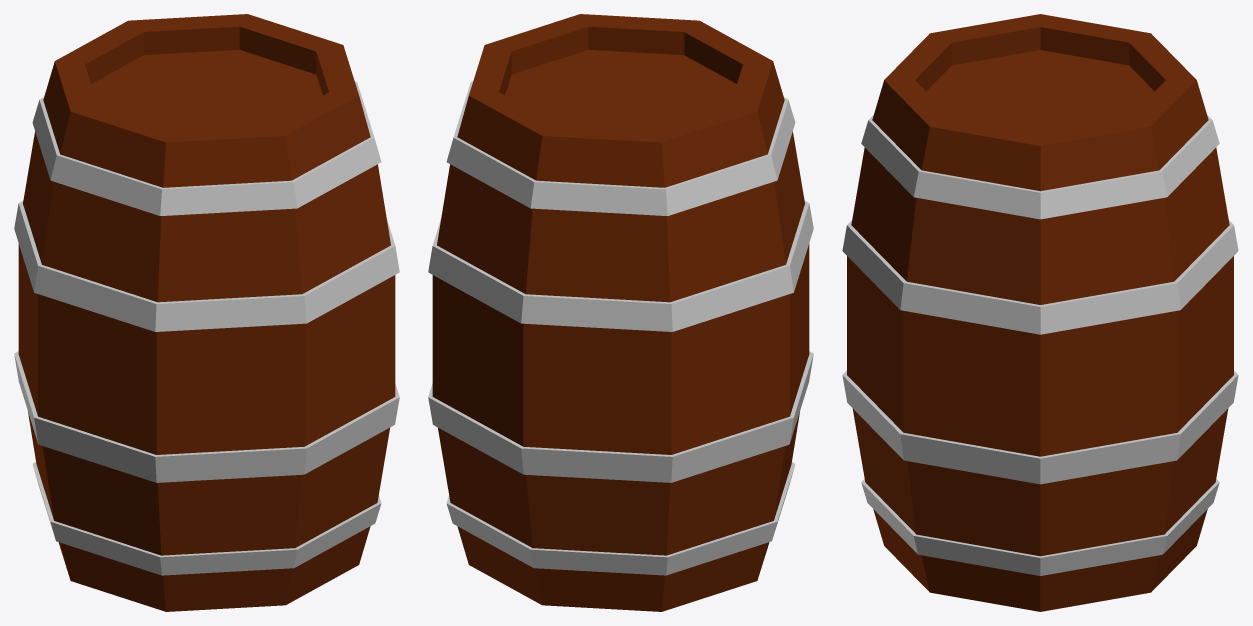
The model's file is Barrel.fbx.
3 views of the same model, side by side, from view 1: azimuth 30°, elevation 25°; view 2: azimuth 150°, elevation 25°; view 3: azimuth 270°, elevation 25° (orthographic).
Parts seen in each view (by area): view 1: Cylinder; view 2: Cylinder; view 3: Cylinder.
Boxes of the visible parts, <box> form: Cylinder: <box>14,14,399,611</box>; Cylinder: <box>428,14,813,611</box>; Cylinder: <box>842,14,1238,611</box>.
Size of the model in its own units: 253 by 329 by 253.
